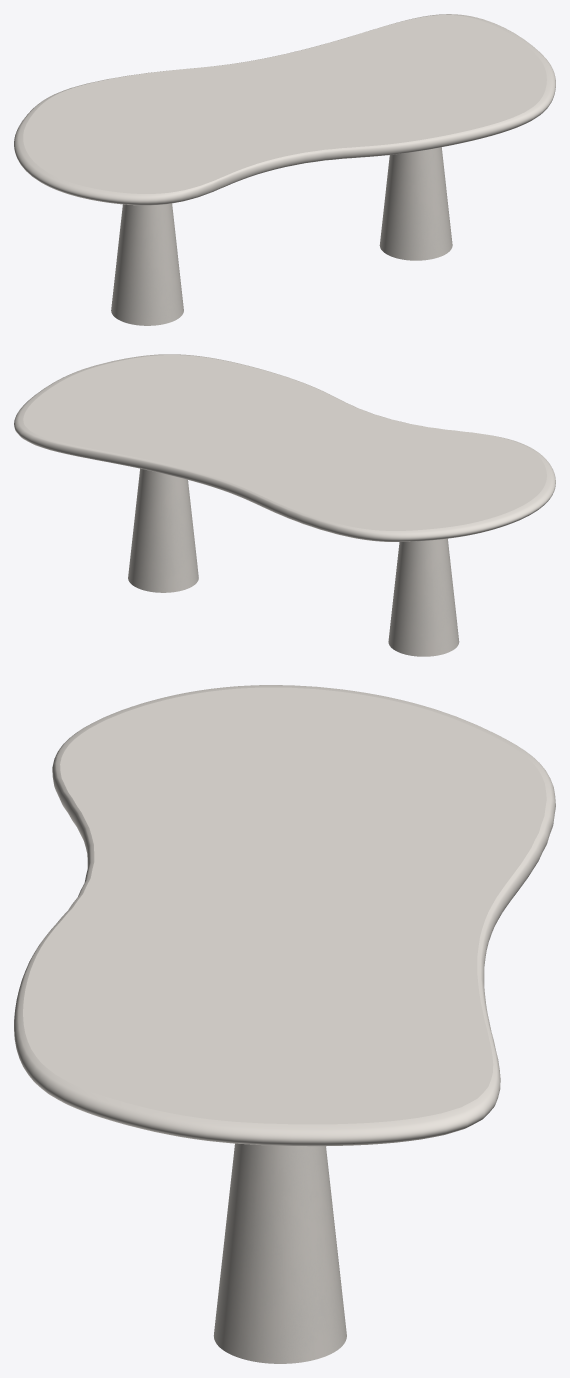
The model's file is pearlwhite_wave_round_pebble.glb.
The picture shows the model from 3 angles, top to bottom: view 1: azimuth 30°, elevation 25°; view 2: azimuth 150°, elevation 25°; view 3: azimuth 270°, elevation 25°; orthographic projection. The views are drawn at different scales.
Parts seen in each view (by area): view 1: round_wave, pebble; view 2: round_wave, pebble; view 3: round_wave, pebble.
Boxes of the visible parts, x1,y1,x2,y2 form: round_wave: (14, 14, 555, 205); pebble: (111, 147, 452, 325); round_wave: (14, 354, 555, 541); pebble: (128, 468, 459, 656); round_wave: (14, 685, 555, 1146); pebble: (213, 1143, 346, 1363).
Bounding box in the file's own units: 7.76 × 2.5 × 3.93.
1 material, 1 textured.
